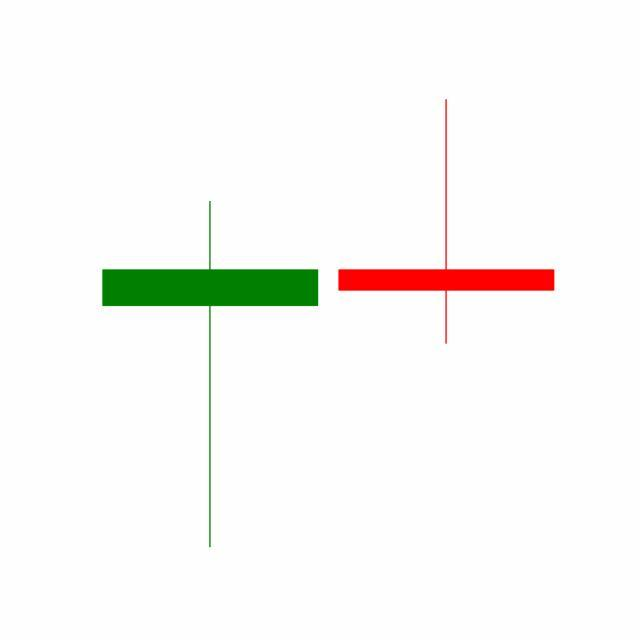Spinning Top: (328, 97, 566, 348)
